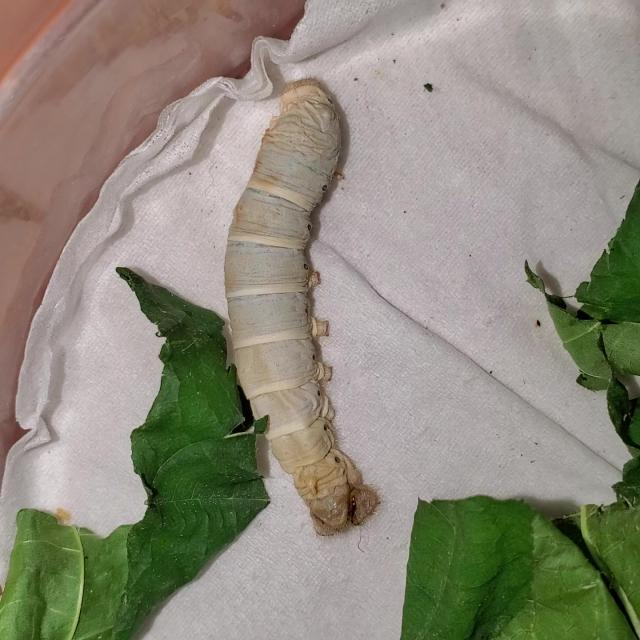Grasserie: (198, 24, 436, 555)
